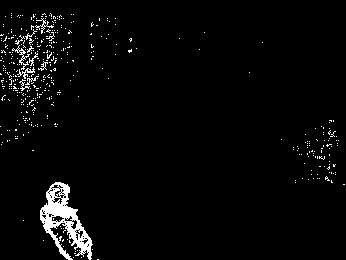person: (40, 178, 104, 260)
